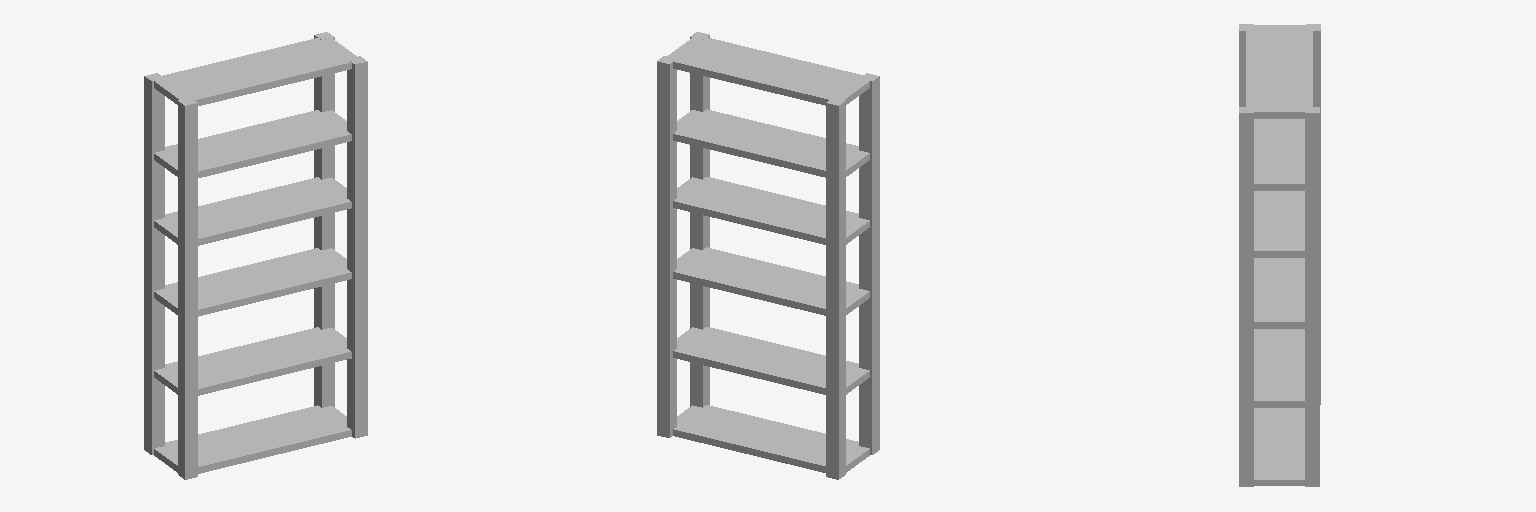
File: shelf 1.obj
The picture shows the model from 3 angles: view 1: azimuth 30°, elevation 25°; view 2: azimuth 150°, elevation 25°; view 3: azimuth 270°, elevation 25°; orthographic projection.
Parts seen in each view (by area): view 1: pCube11; view 2: pCube11; view 3: pCube11.
Boxes of the visible parts, <box> form: pCube11: <box>144,32,367,479</box>; pCube11: <box>657,32,879,479</box>; pCube11: <box>1239,24,1320,486</box>.
Size of the model in its own units: 109 by 213 by 42.27.